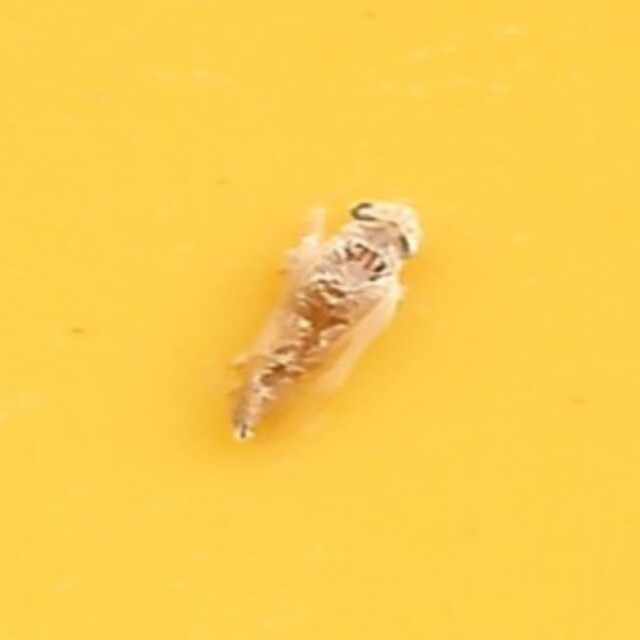Hemiptera: (221, 188, 419, 452)
